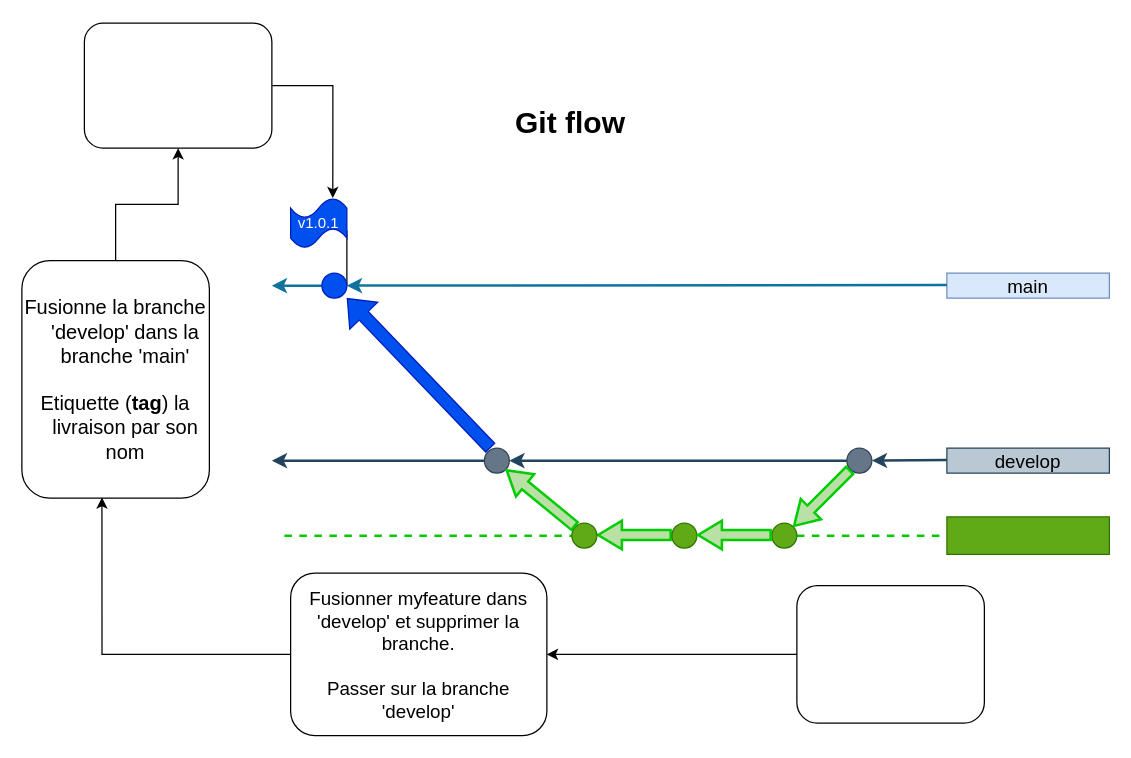
The diagram is 1131 pixels wide and 758 high, and some of its shapes have lost their labels. The shapes that lost their labels are listed below. From the top down, each one's box as (x1, y1, x2, y2) in pixels, then its label:
(83, 22, 272, 148): git tag -a v1.0.1 -m "release version 1.0.1" git push --tags
(946, 516, 1109, 554): feature/myfeature
(796, 584, 984, 723): Sur la branche 'develop', créer une branche feature 'feature/myfeature'
